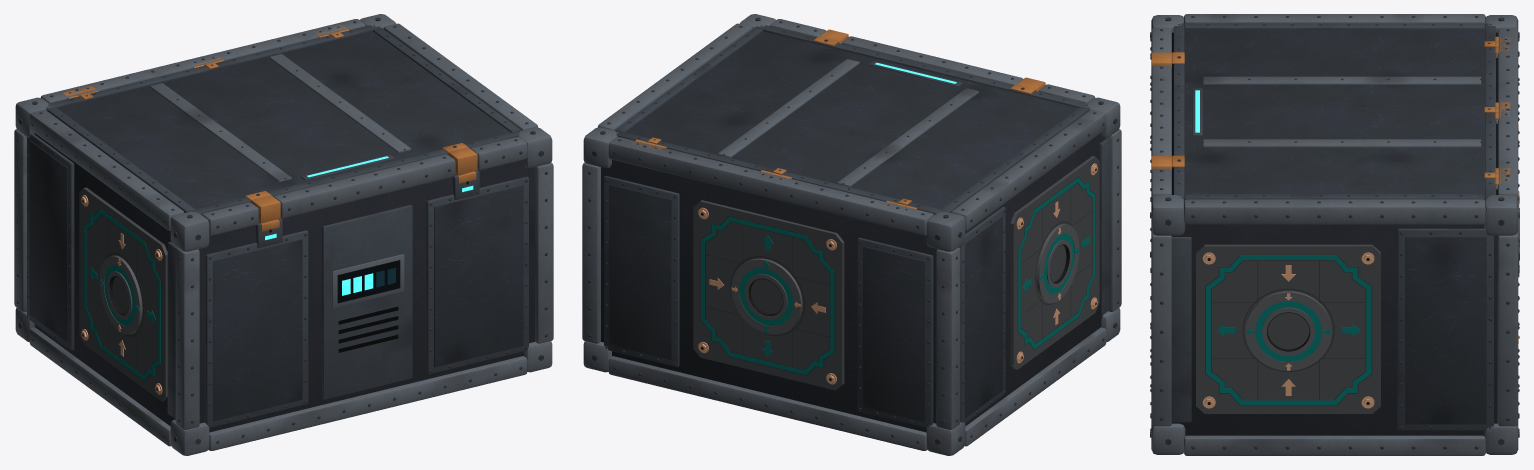
File: large_chest.glb
The picture shows the model from 3 angles, left to right: view 1: azimuth 30°, elevation 25°; view 2: azimuth 150°, elevation 25°; view 3: azimuth 270°, elevation 25°; orthographic projection. The views are drawn at different scales.
Parts seen in each view (by area): view 1: Body.002, Lid.002, IOPortLeft_face; view 2: Body.002, Lid.002, IOPortBack_face, IOPortLeft_face; view 3: Body.002, Lid.002, IOPortRight_face.
Boxes of the visible parts, x1,y1,x2,y2 form: Body.002: (14,14,553,455); Lid.002: (46,25,521,231); IOPortLeft_face: (79,187,167,401); Body.002: (582,14,1121,455); Lid.002: (614,25,1089,214); IOPortBack_face: (693,200,844,390); IOPortLeft_face: (1010,156,1099,369); Body.002: (1150,14,1519,455); Lid.002: (1151,23,1498,200); IOPortRight_face: (1196,244,1380,413).
Bounding box in the file's own units: 1.25 × 0.7496 × 0.9995.
Materials: 17 (7 with a texture image).
